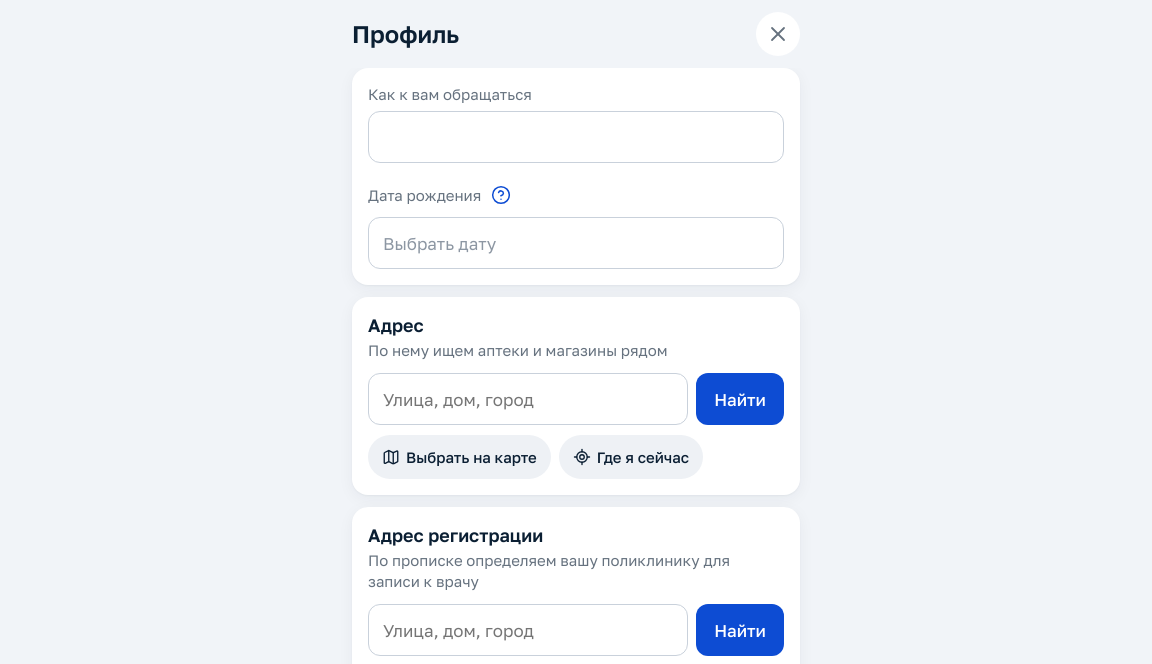
it: ProfilePage › кнопка «?» объясняет, зачем дата рождения
Expected: the text "скидкой в ваш день рождения" is not shown
Click the button named "Зачем указывать дату рождения".
click(501, 195)  # box [485,179,517,211]
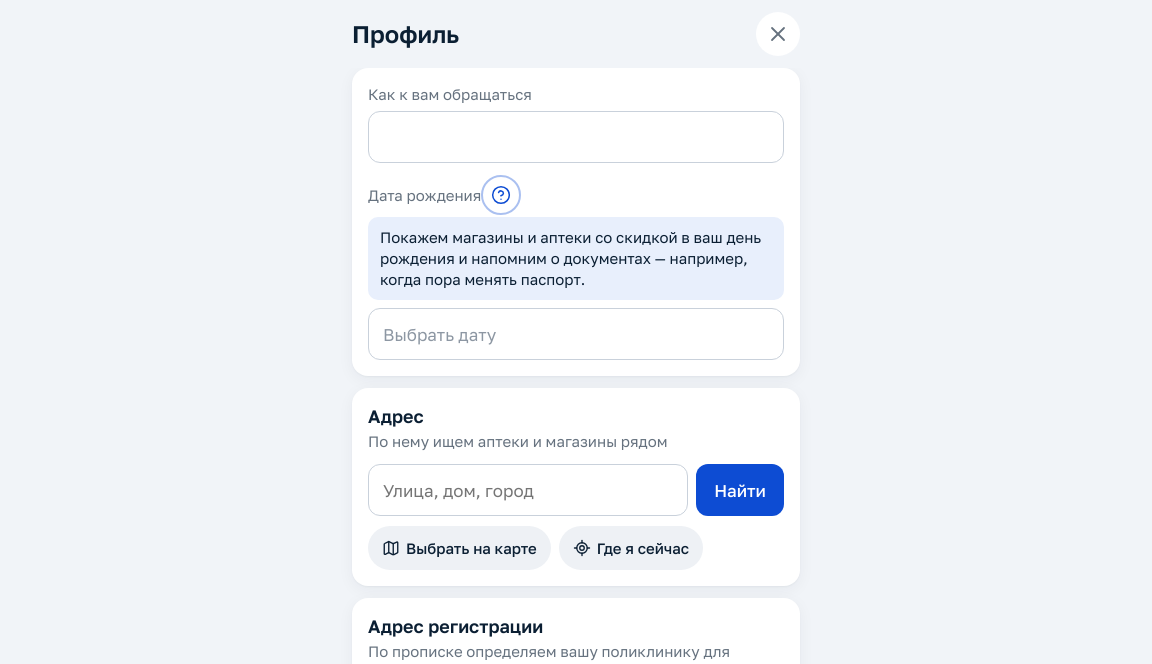
Expected: the text "менять паспорт" is shown, [380,228,761,288]
Click the button named "Зачем указывать дату рождения".
click(501, 195)  # box [485,179,517,211]
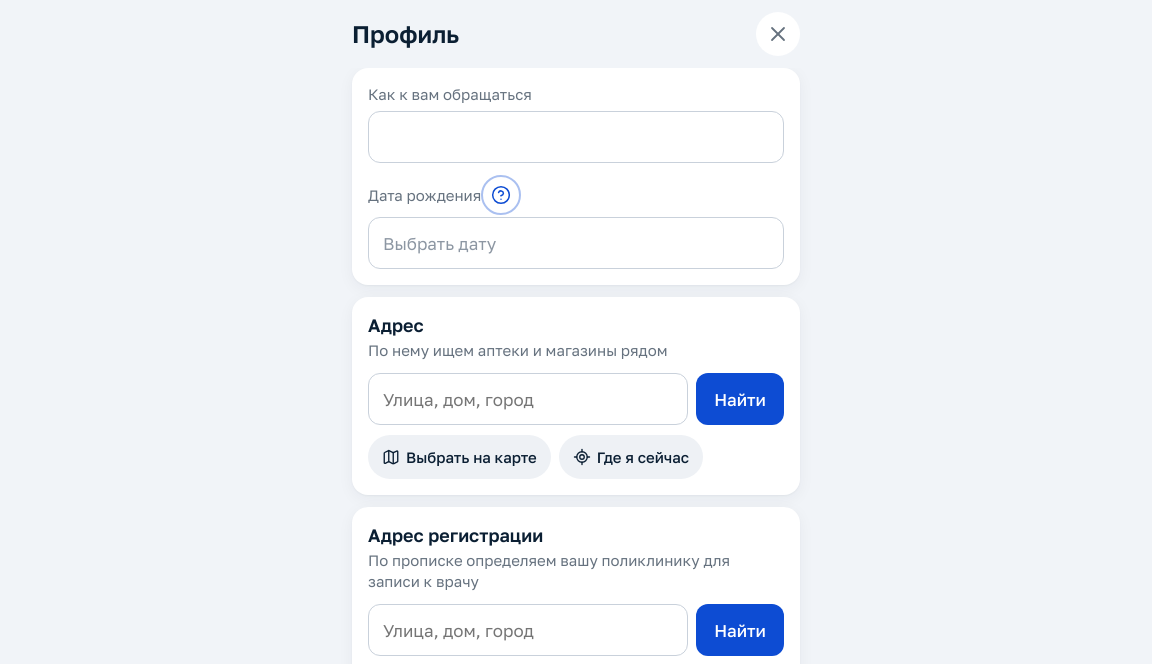
Expected: the text "скидкой в ваш день рождения" is gone
